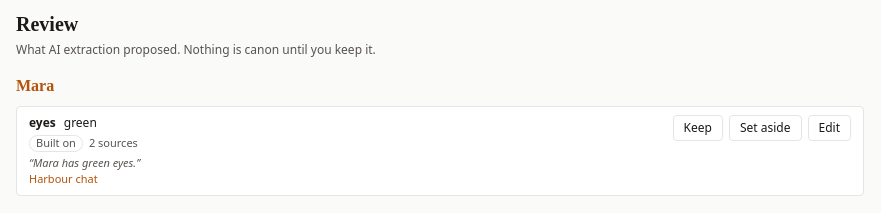
it: ReviewQueue › shows an entity's proposed facts with their evidence label and keeps one
Expected: the text "Built on" is shown, x1=29 y1=135 x2=83 y2=152
Expected: the text "2 sources" is shown, x1=89 y1=136 x2=138 y2=151
Click the button "Keep": [698, 128] box x1=673 y1=115 x2=723 y2=141
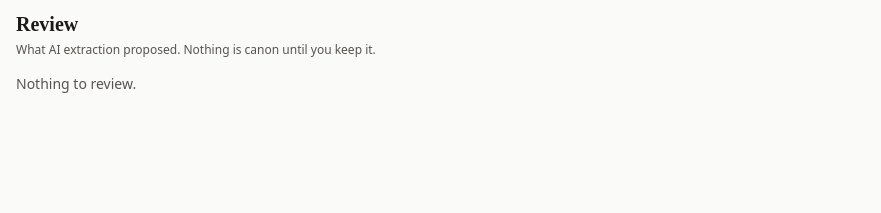
Expected: the text "Nothing to review." is shown, x1=16 y1=74 x2=136 y2=93
